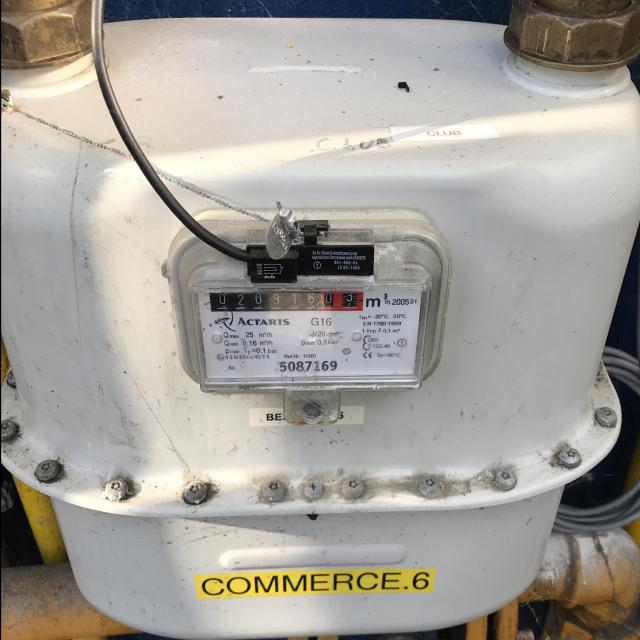gaz_meter: (193, 288, 425, 384)
indication: (209, 290, 364, 312)
